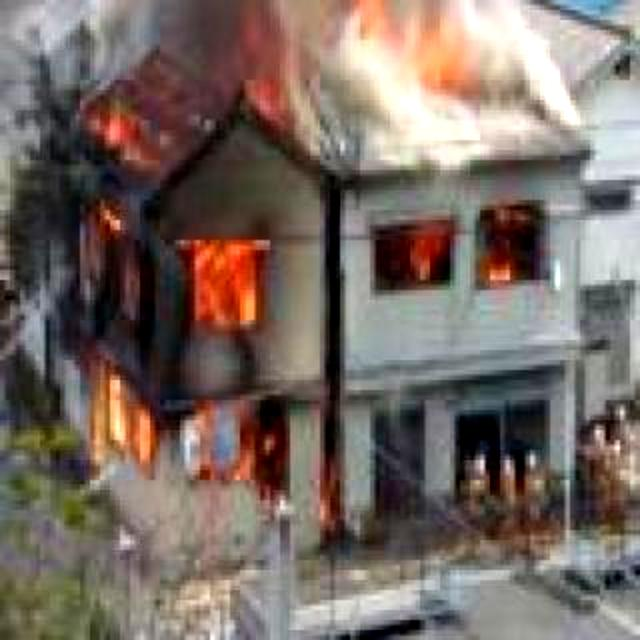fire: (178, 398, 290, 498), (78, 195, 152, 331), (172, 238, 268, 334), (90, 368, 158, 469)
